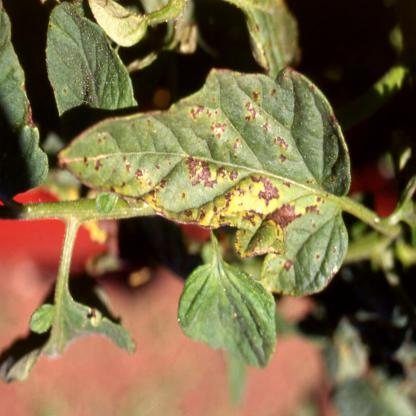tomato leaf bacterial spot: (48, 63, 360, 295), (171, 237, 289, 391)
